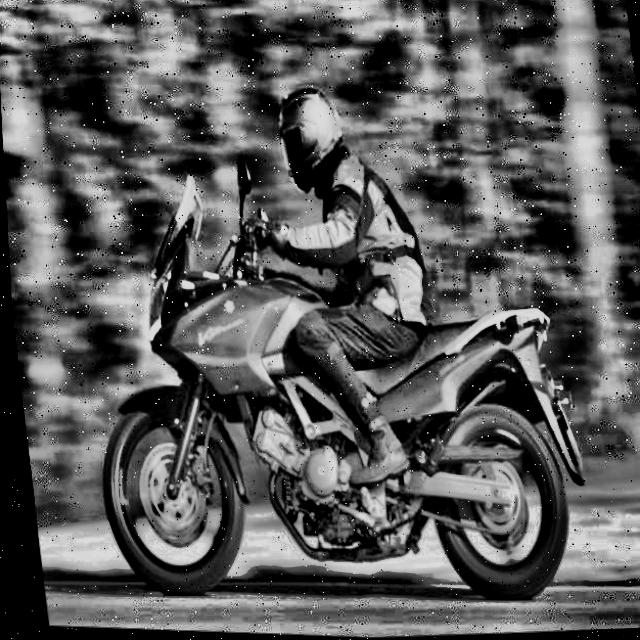Helmet: (270, 81, 352, 202)
